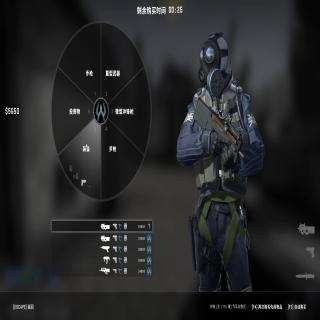CT-Head: (198, 31, 229, 93)
